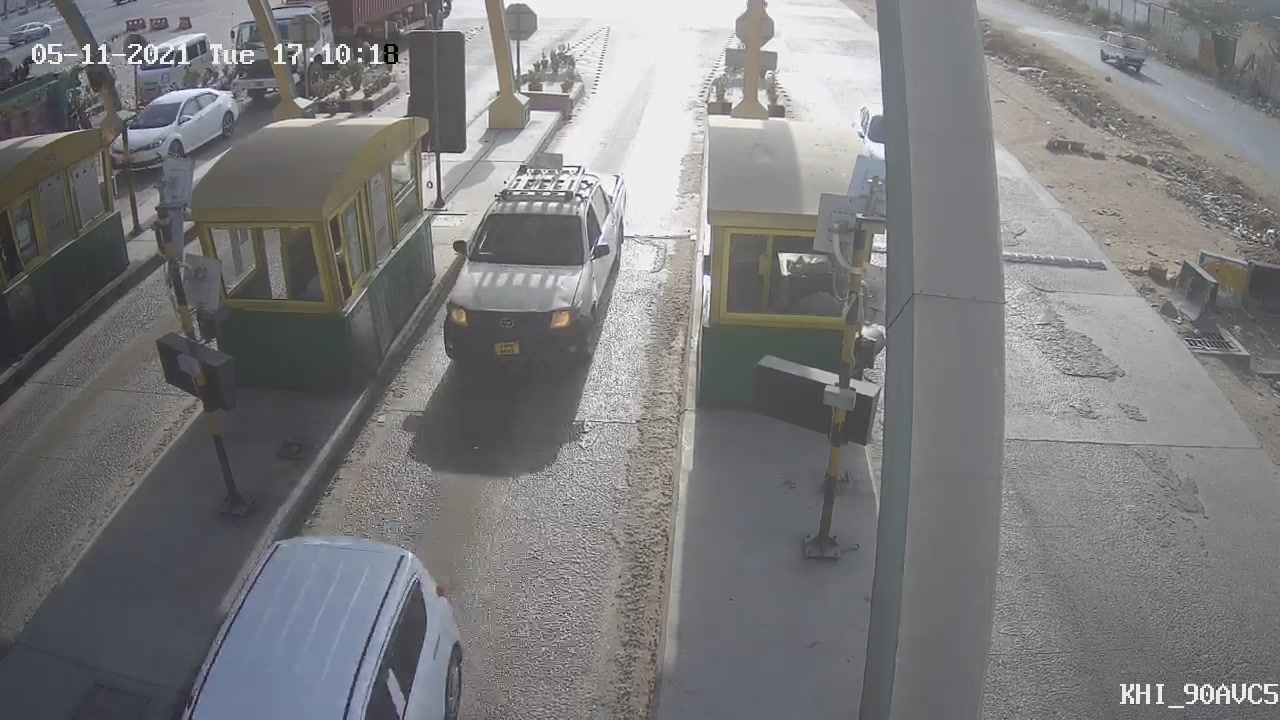F1: (427, 139, 643, 404)
